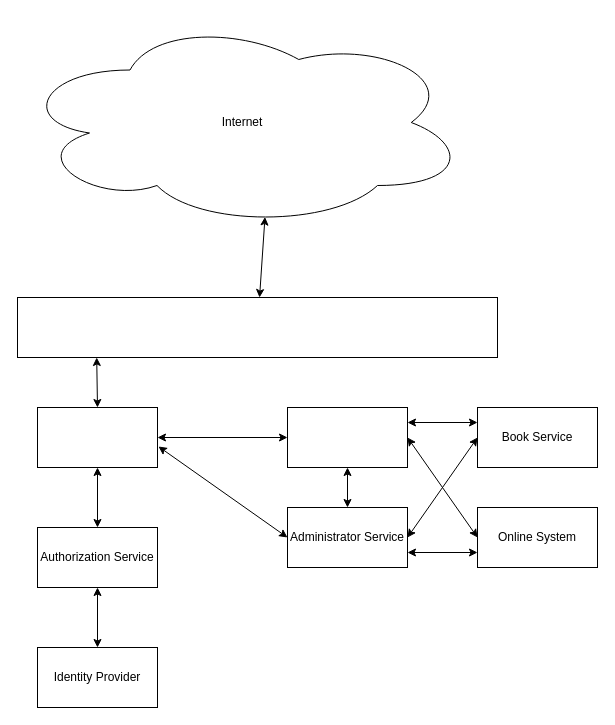
This 615x725 diagram has some shape labels left out. Here are the shapes that lost their labels. From the top down, the box of each, then its label:
(16, 296, 498, 358): Kubernetes
(36, 406, 158, 468): UI
(286, 406, 408, 468): Client Service
